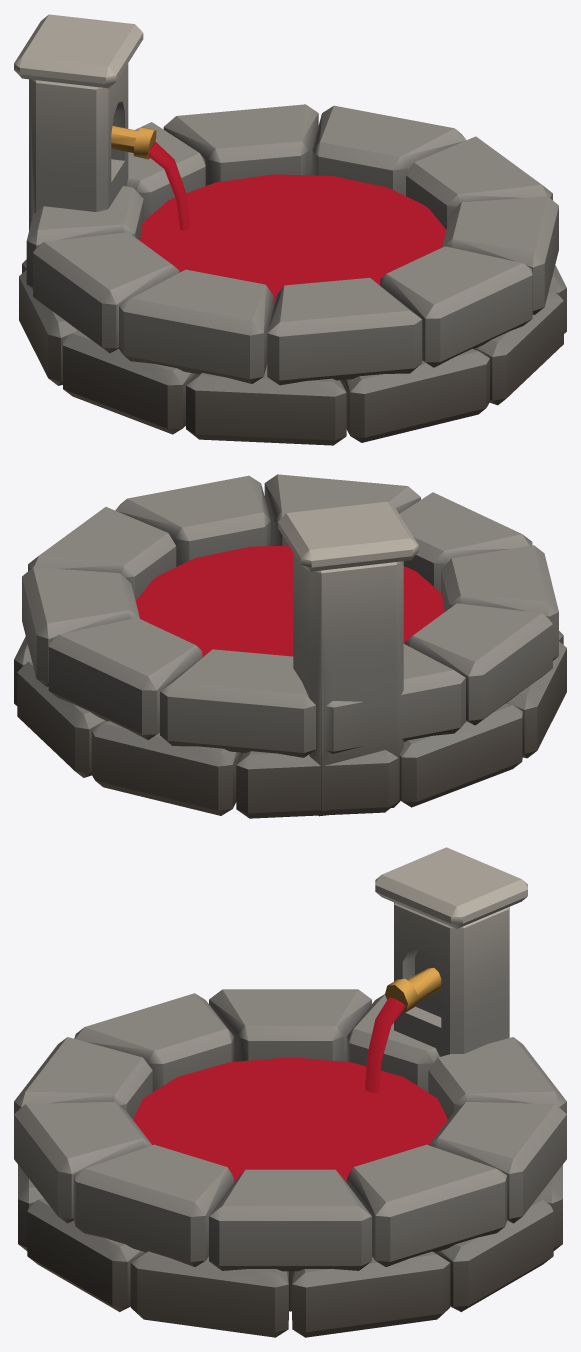
The model's file is fountain_spring_health.glb.
The picture shows the model from 3 angles, top to bottom: view 1: azimuth 30°, elevation 25°; view 2: azimuth 150°, elevation 25°; view 3: azimuth 270°, elevation 25°; orthographic projection. The views are drawn at different scales.
Parts seen in each view (by area): view 1: Item, Liquid; view 2: Item, Liquid; view 3: Item, Liquid.
Boxes of the visible parts, <box> form: Item: <box>14,14,566,445</box>; Liquid: <box>140,142,446,304</box>; Item: <box>14,474,566,818</box>; Liquid: <box>135,545,444,656</box>; Item: <box>14,847,566,1337</box>; Liquid: <box>133,997,447,1181</box>.
Bounding box in the file's own units: 2.27 × 1.24 × 2.23.
3 materials, 3 textured.
